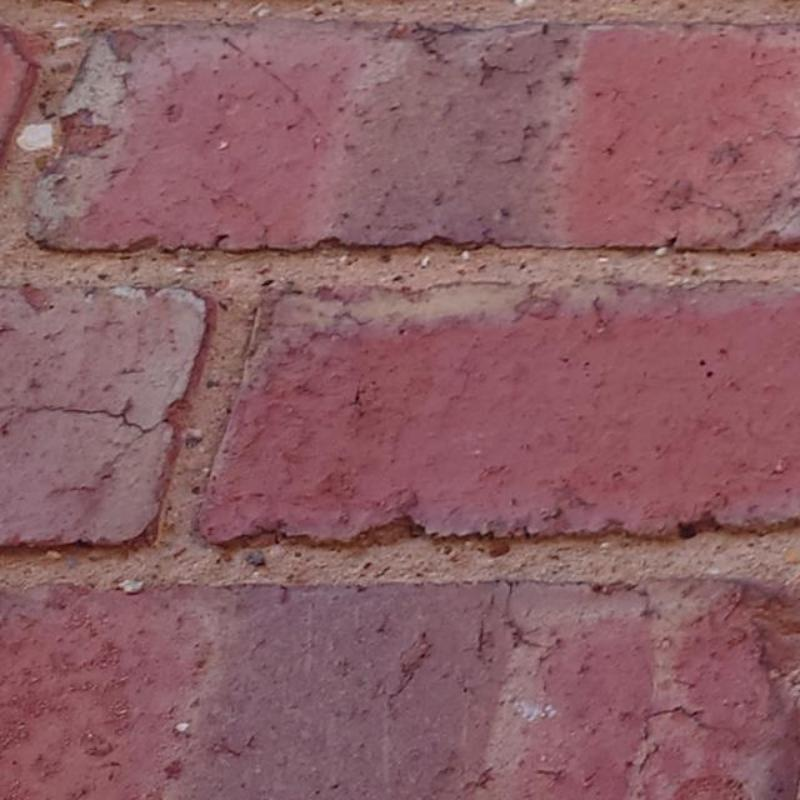pothole: (24, 394, 157, 436)
